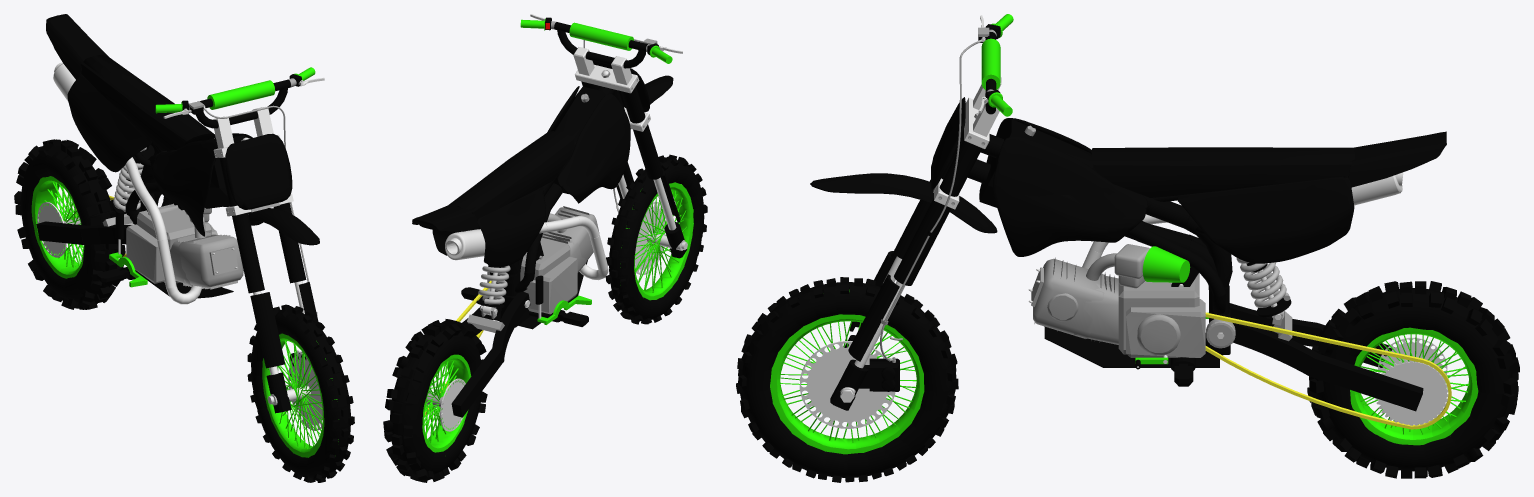
The model's file is BikeRigged.FBX.
3 views of the same model, side by side, from view 1: azimuth 30°, elevation 25°; view 2: azimuth 150°, elevation 25°; view 3: azimuth 270°, elevation 25° (orthographic). The views are drawn at different scales.
Visible parts, largest first — view 1: FrontFrame, FrontWheel, BackWheel; view 2: FrontFrame, BackWheel, FrontWheel; view 3: FrontFrame, FrontWheel, BackWheel.
Part boxes in pixels (bbox=[...]): FrontFrame: bbox=[36, 14, 324, 413]; FrontWheel: bbox=[247, 304, 354, 482]; BackWheel: bbox=[14, 139, 125, 309]; FrontFrame: bbox=[412, 14, 687, 417]; BackWheel: bbox=[383, 319, 487, 482]; FrontWheel: bbox=[605, 154, 707, 324]; FrontFrame: bbox=[810, 14, 1451, 429]; FrontWheel: bbox=[736, 277, 958, 482]; BackWheel: bbox=[1307, 281, 1519, 478].
Size of the model in its own units: 43.6 by 89.84 by 151.
